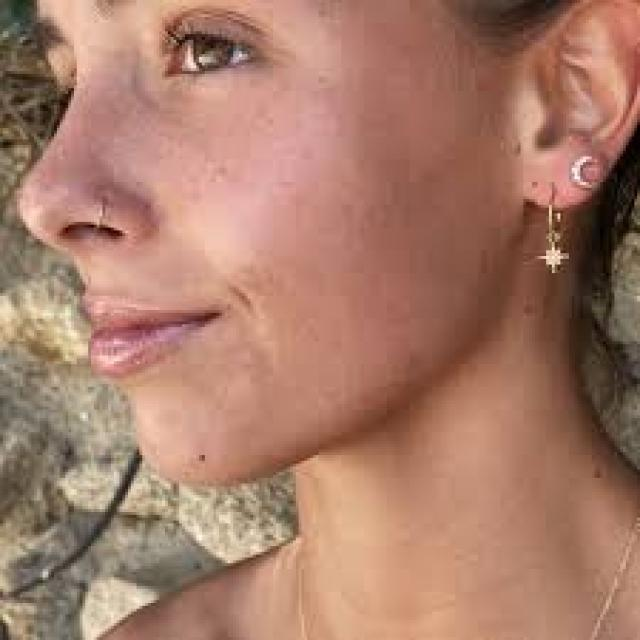Earring: (522, 156, 580, 282), (562, 148, 612, 202)
